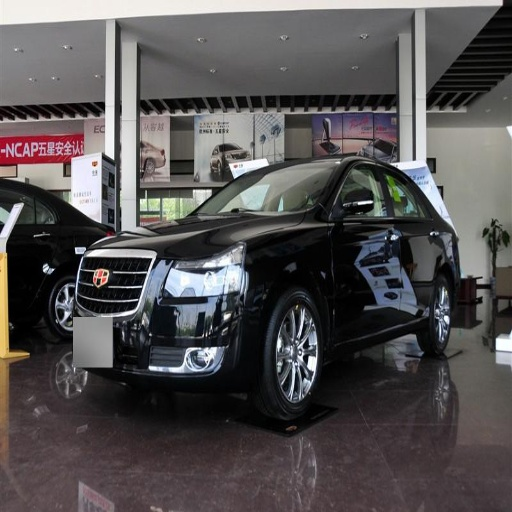front_bumper: (69, 249, 264, 385)
front_glass: (217, 162, 336, 211)
front_left_door: (332, 160, 400, 337)
